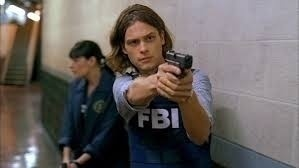pistol: (165, 49, 197, 76)
